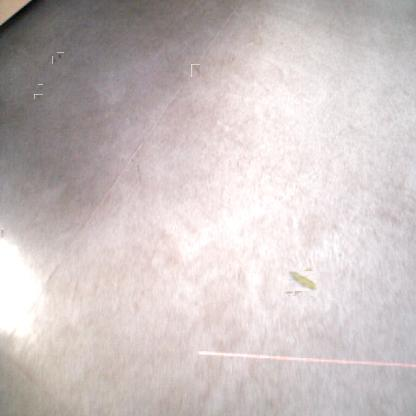dirty: (291, 269, 315, 294)
mark: (135, 161, 143, 177), (191, 64, 200, 77), (284, 288, 293, 297), (57, 52, 64, 60), (35, 93, 42, 100), (37, 84, 43, 91), (52, 56, 57, 64), (0, 228, 4, 237)
